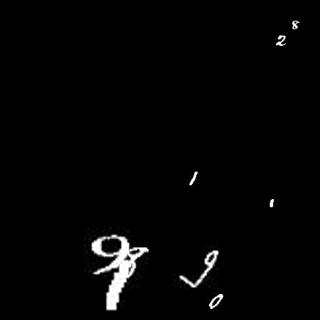eight: (290, 17, 300, 31)
nine: (176, 248, 219, 288), (92, 234, 131, 275)
one: (105, 262, 132, 310), (268, 193, 275, 210), (190, 170, 197, 185)
two: (271, 32, 291, 48)
zero: (208, 292, 223, 309)
